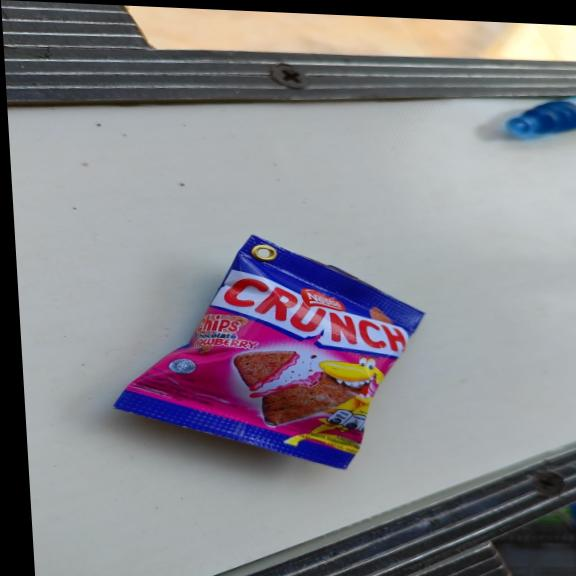Plastik: (104, 227, 432, 474), (502, 93, 576, 142)
